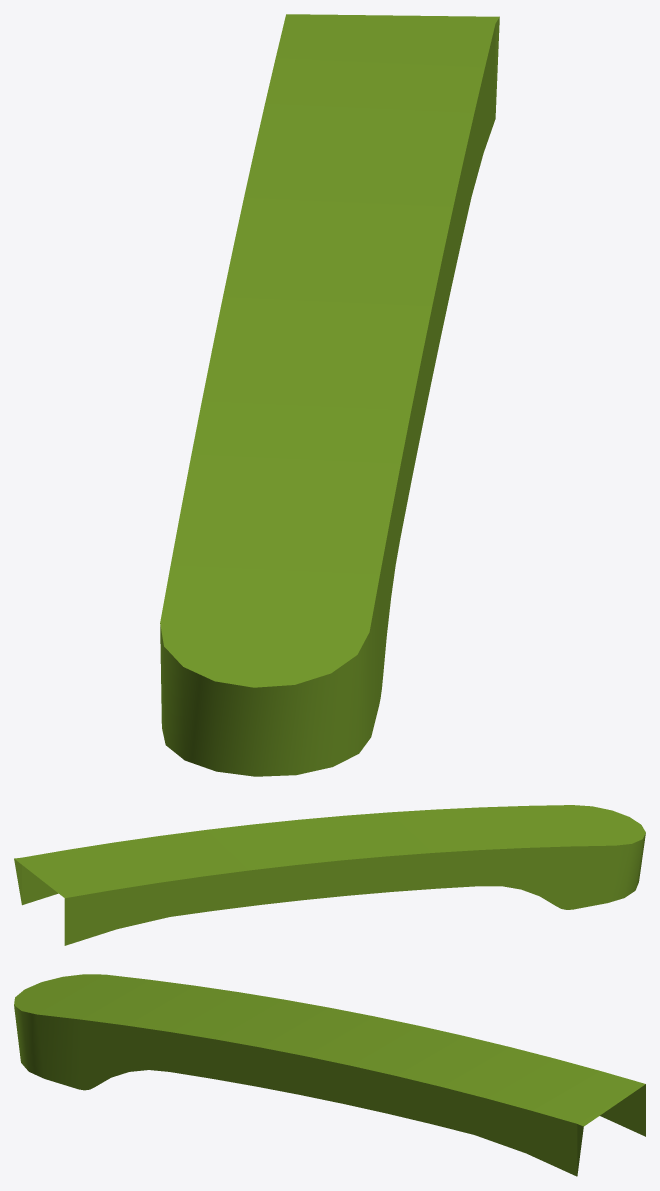
3 renders of one model, top to bottom at view 1: azimuth 30°, elevation 25°; view 2: azimuth 150°, elevation 25°; view 3: azimuth 270°, elevation 25°, orthographic. The views are drawn at different scales.
Size of the model in its own units: 0.2894 by 0.0752 by 0.3631.
